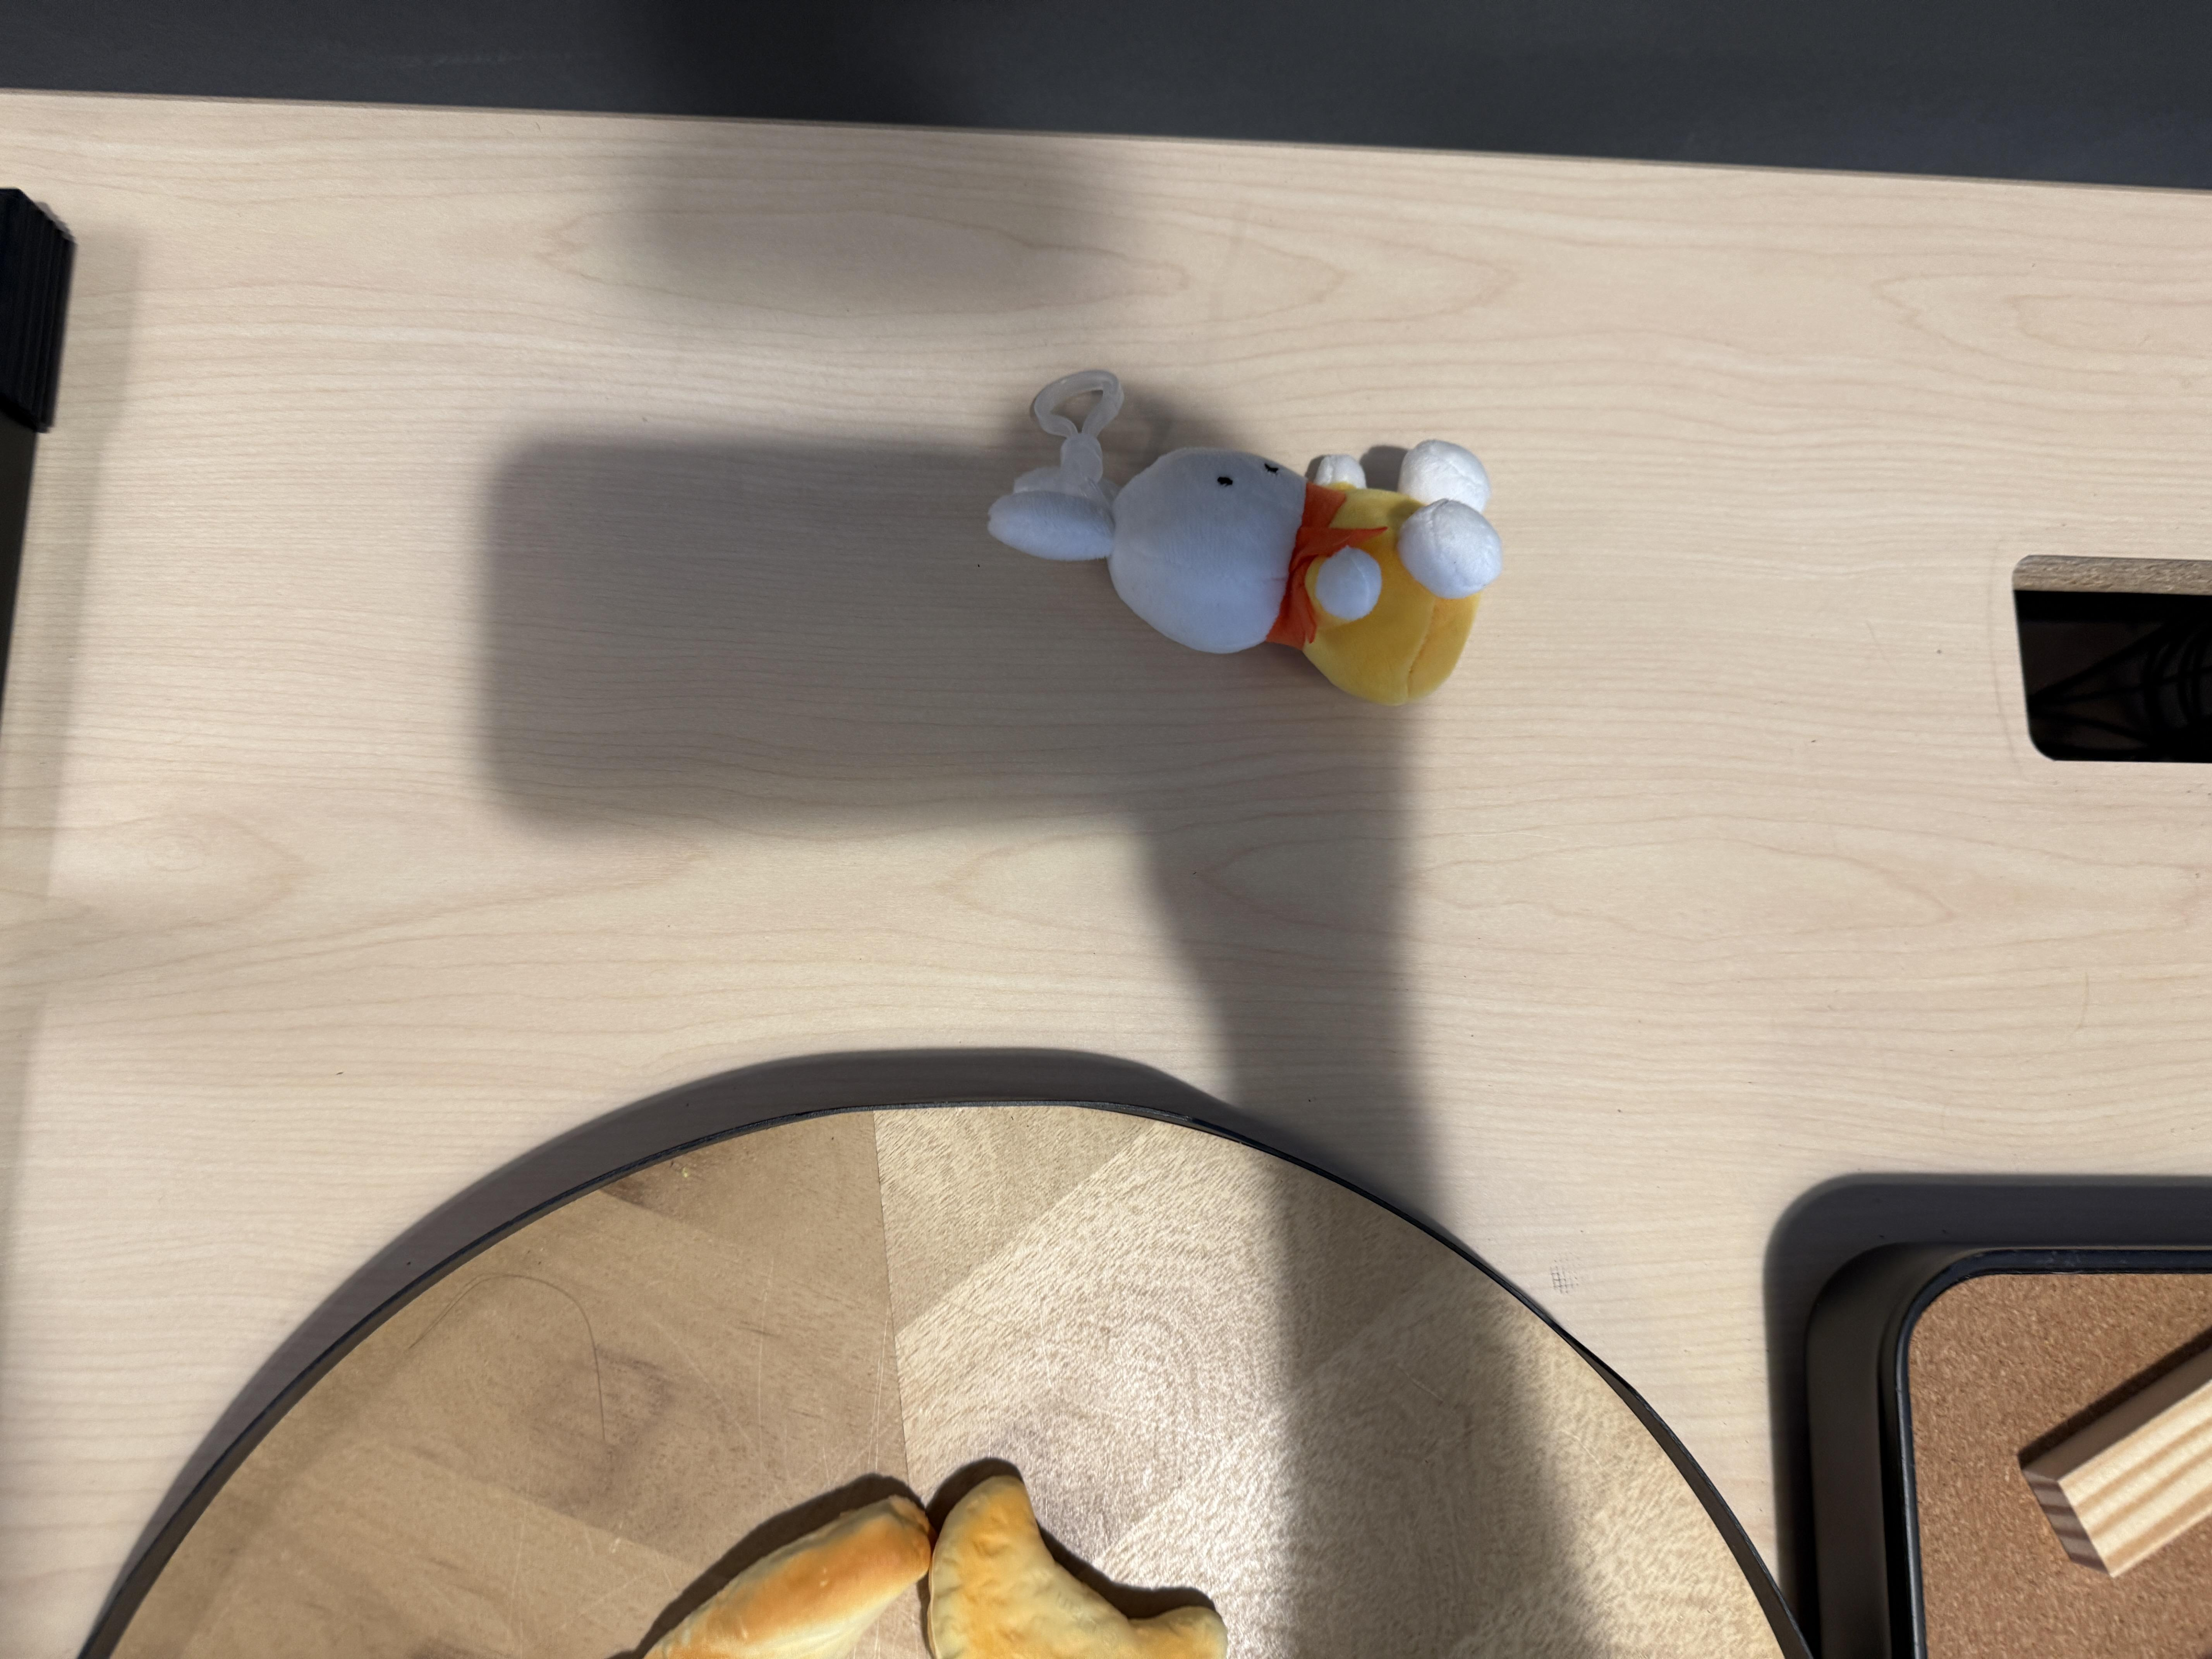block: (2024, 1314, 2212, 1577)
bread: (930, 1471, 1233, 1659), (624, 1497, 928, 1652)
doll: (986, 362, 1494, 714)
